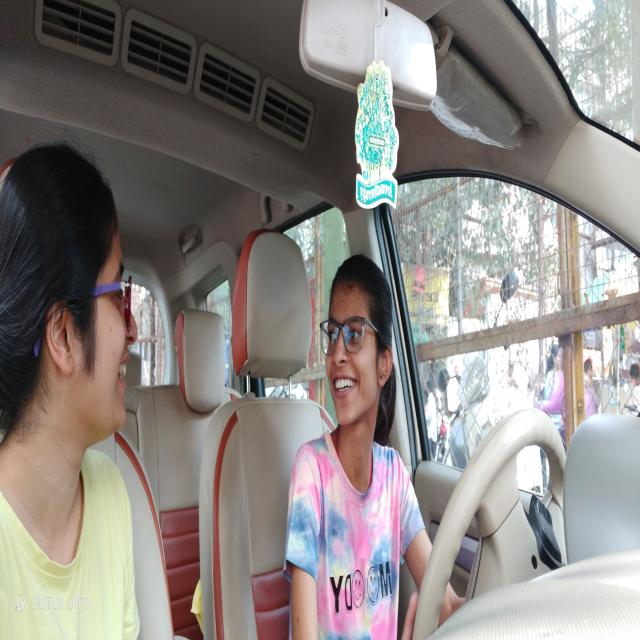LeftRight: (322, 252, 395, 430)
person: (8, 149, 136, 445)
talking: (328, 372, 360, 400), (116, 359, 134, 389)
